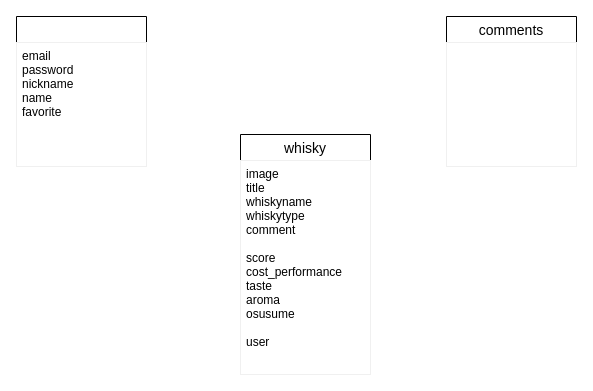
This 593x391 diagram has some shape labels left out. Here are the shapes that lost their labels. From the top down, the box of each, then its label:
(16, 16, 146, 166): users
(446, 42, 576, 166): text user whisky
